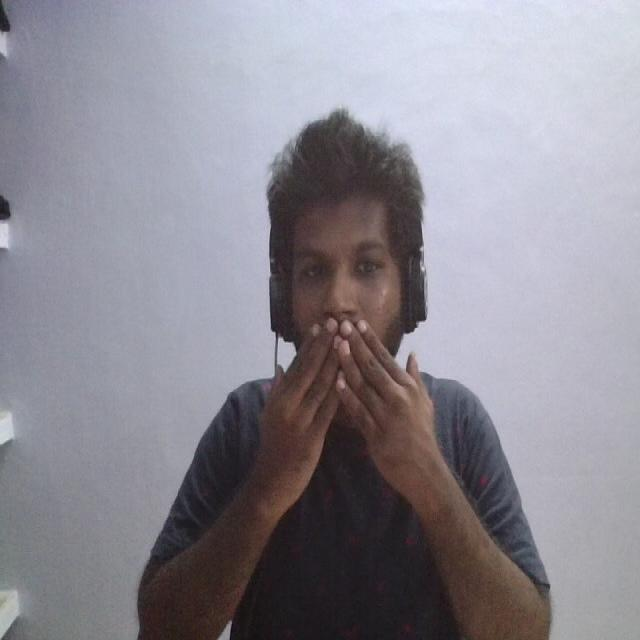Thanks: (238, 307, 496, 552)
